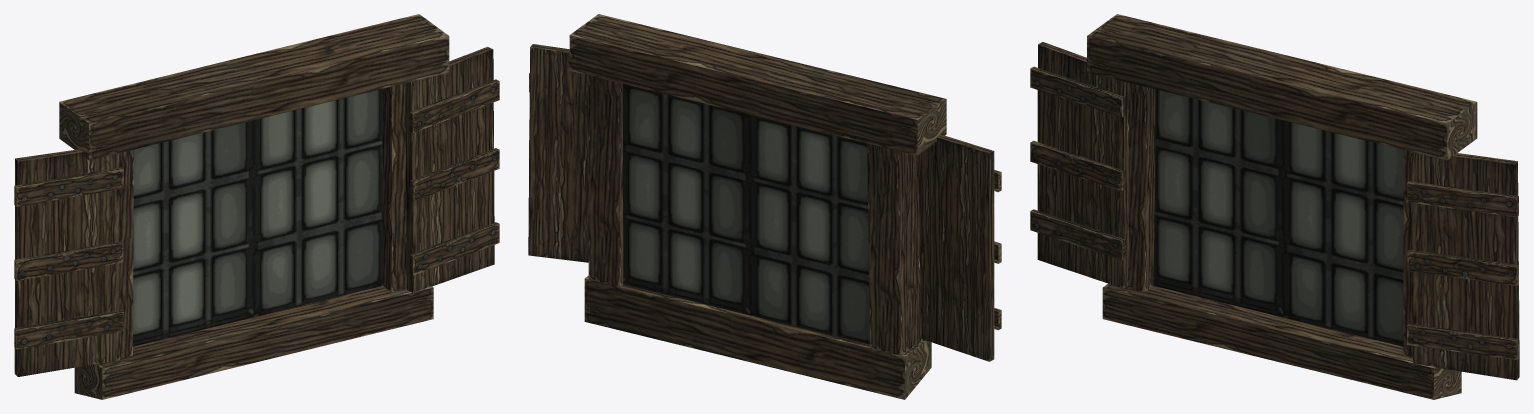
File: Window_08.fbx
The picture shows the model from 3 angles, left to right: view 1: azimuth 30°, elevation 25°; view 2: azimuth 150°, elevation 25°; view 3: azimuth 330°, elevation 25°; orthographic projection. The views are drawn at different scales.
Visible parts, largest first — view 1: Window_08; view 2: Window_08; view 3: Window_08.
Boxes of the visible parts, x1=… form: Window_08: x1=14, y1=14, x2=499, y2=399; Window_08: x1=528, y1=14, x2=1001, y2=399; Window_08: x1=1030, y1=14, x2=1519, y2=399.
Size of the model in its own units: 3.72 by 2.15 by 0.4272.
